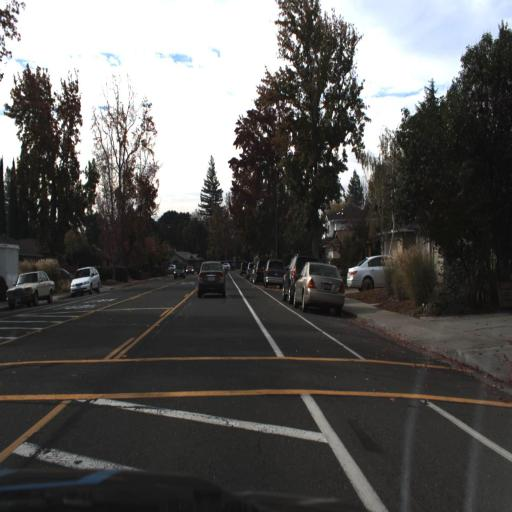car: (291, 259, 348, 311), (346, 253, 405, 293), (3, 268, 58, 310), (281, 253, 317, 304), (195, 259, 228, 299), (67, 262, 101, 299), (263, 257, 283, 286), (172, 262, 187, 282)
